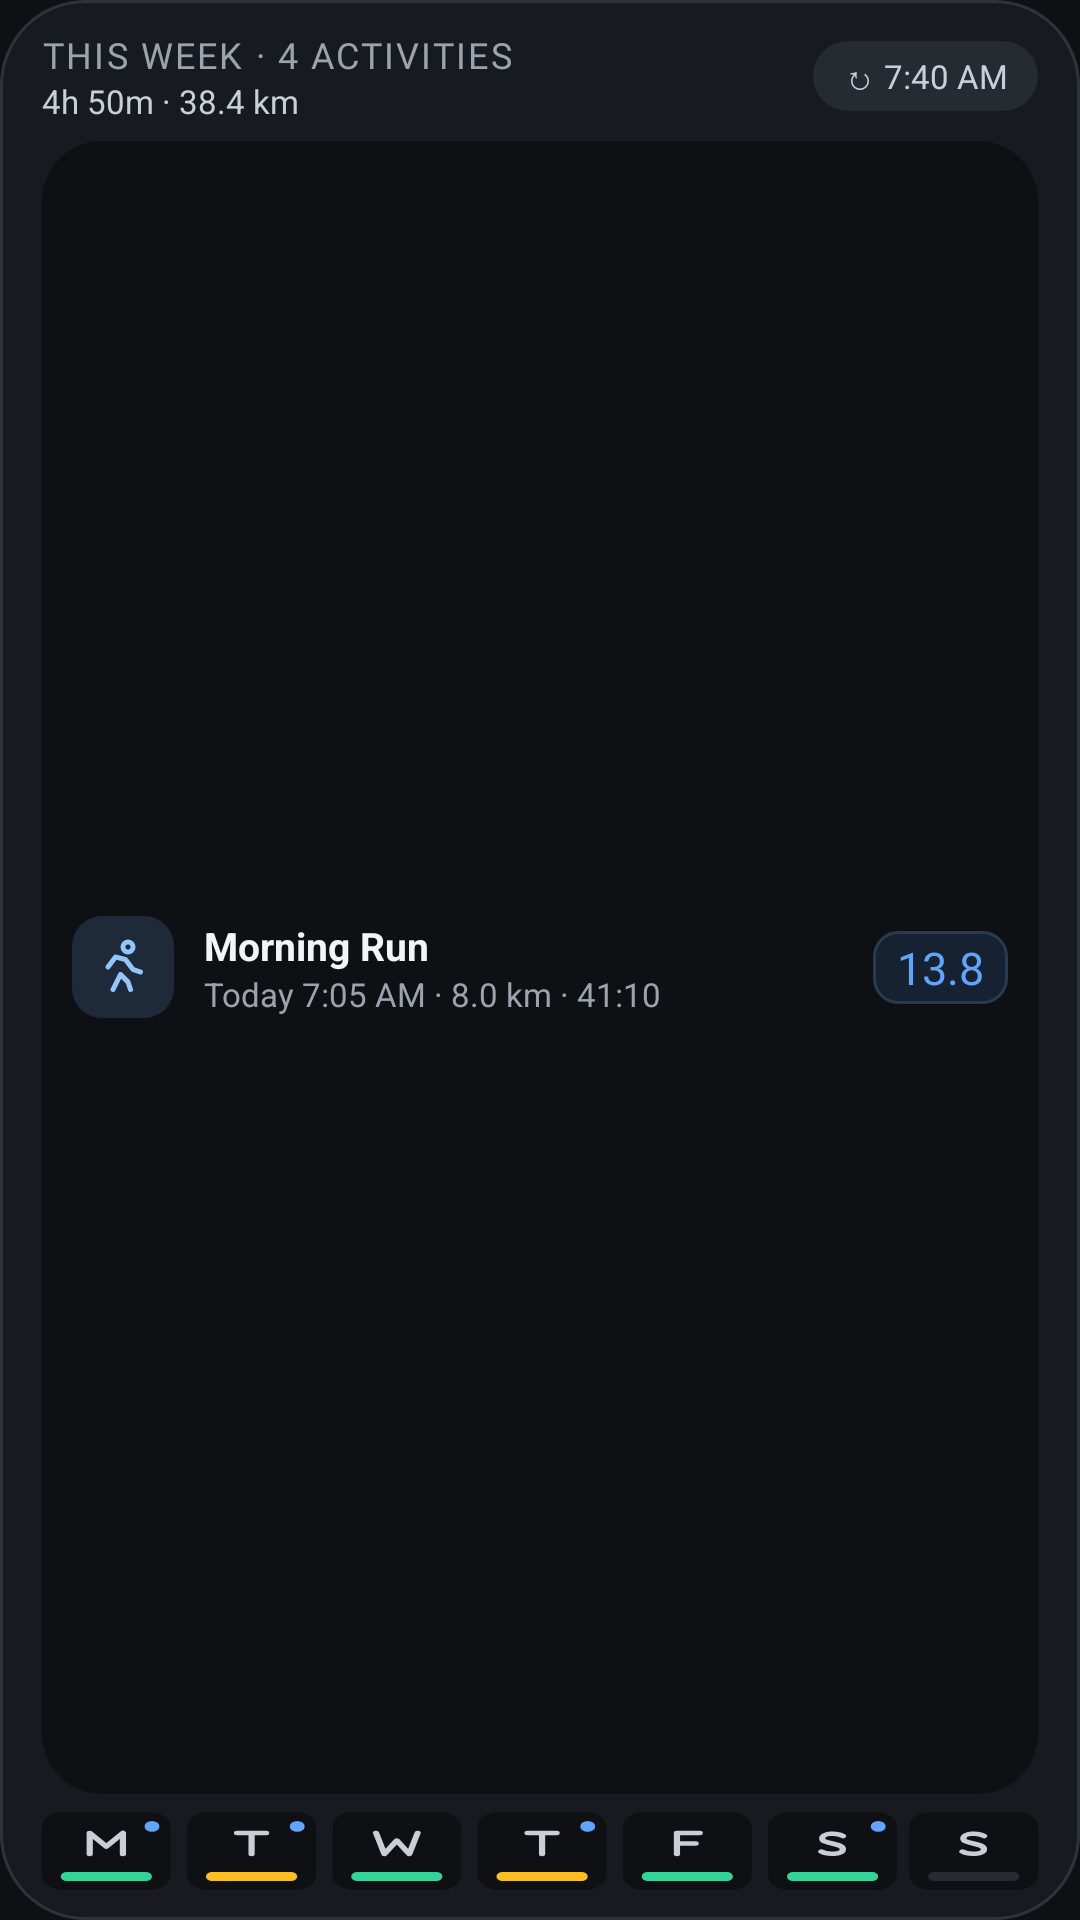

Screen size 1080*1920. Icon name, then its center in pixels as [x,y]:
sport run: [123,967]
